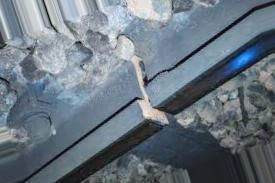tracks_fault: (118, 47, 180, 136)
